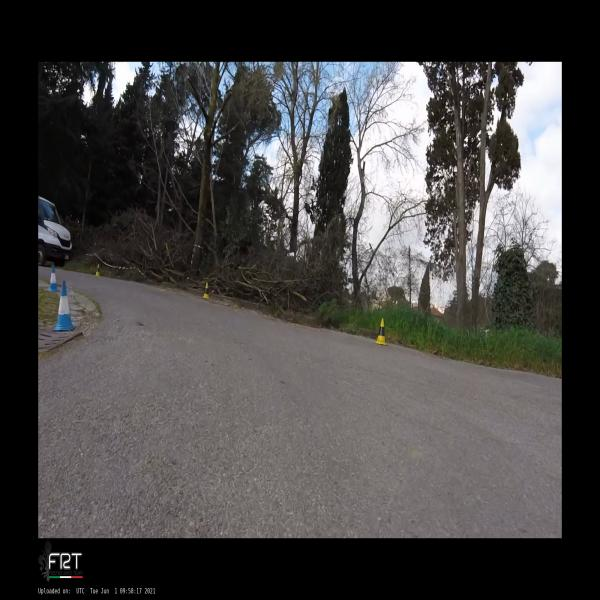blue_cone: (52, 281, 76, 331), (48, 266, 60, 292)
yellow_cone: (374, 318, 388, 346), (202, 282, 210, 299), (95, 264, 100, 276)
